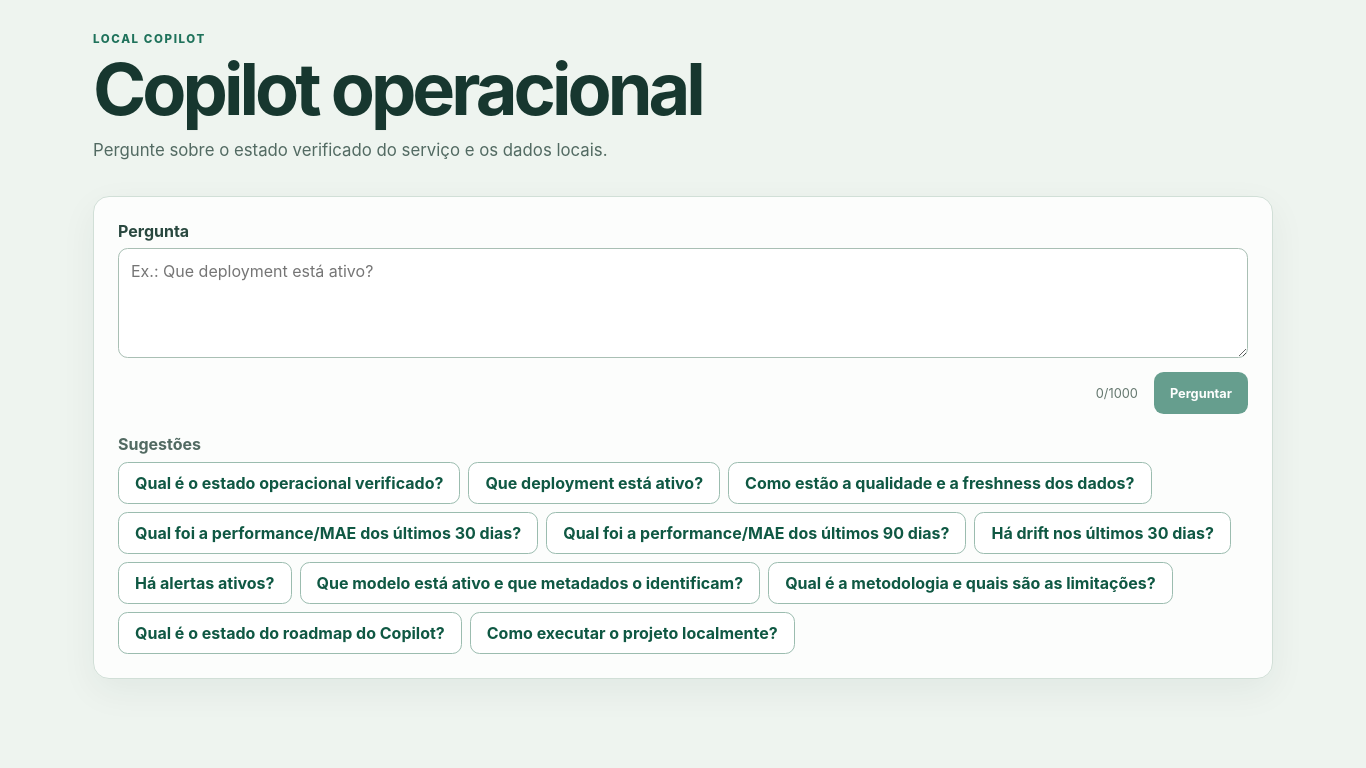
CopilotPage › keeps conversation state in memory and does not use localStorage
Type "Qual é o estado operacional e a metodologia?" into the text box labelled "Pergunta" at {"x": 683, "y": 303}, box x1=118 y1=248 x2=1248 y2=358
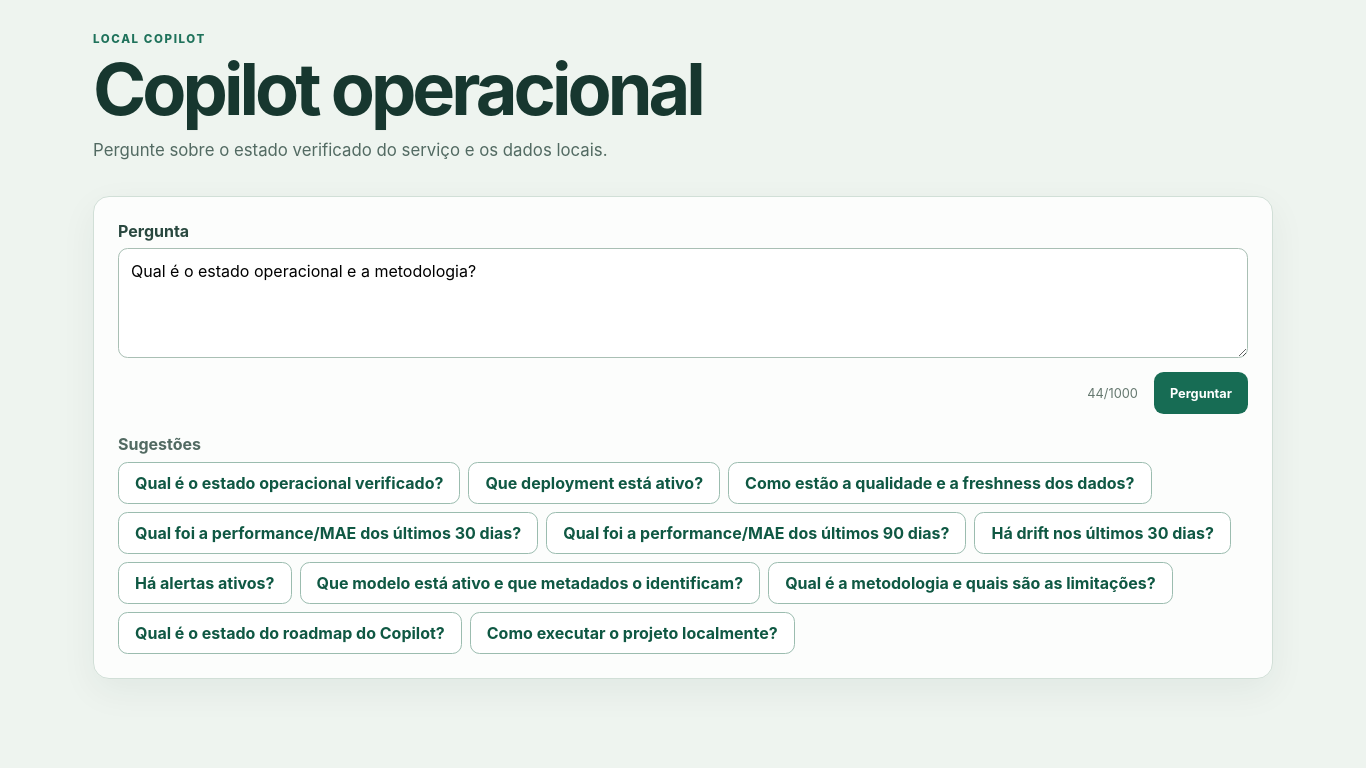
Click the button "Perguntar" at {"x": 1201, "y": 393}, box x1=1154 y1=372 x2=1248 y2=414
(page scrolled)
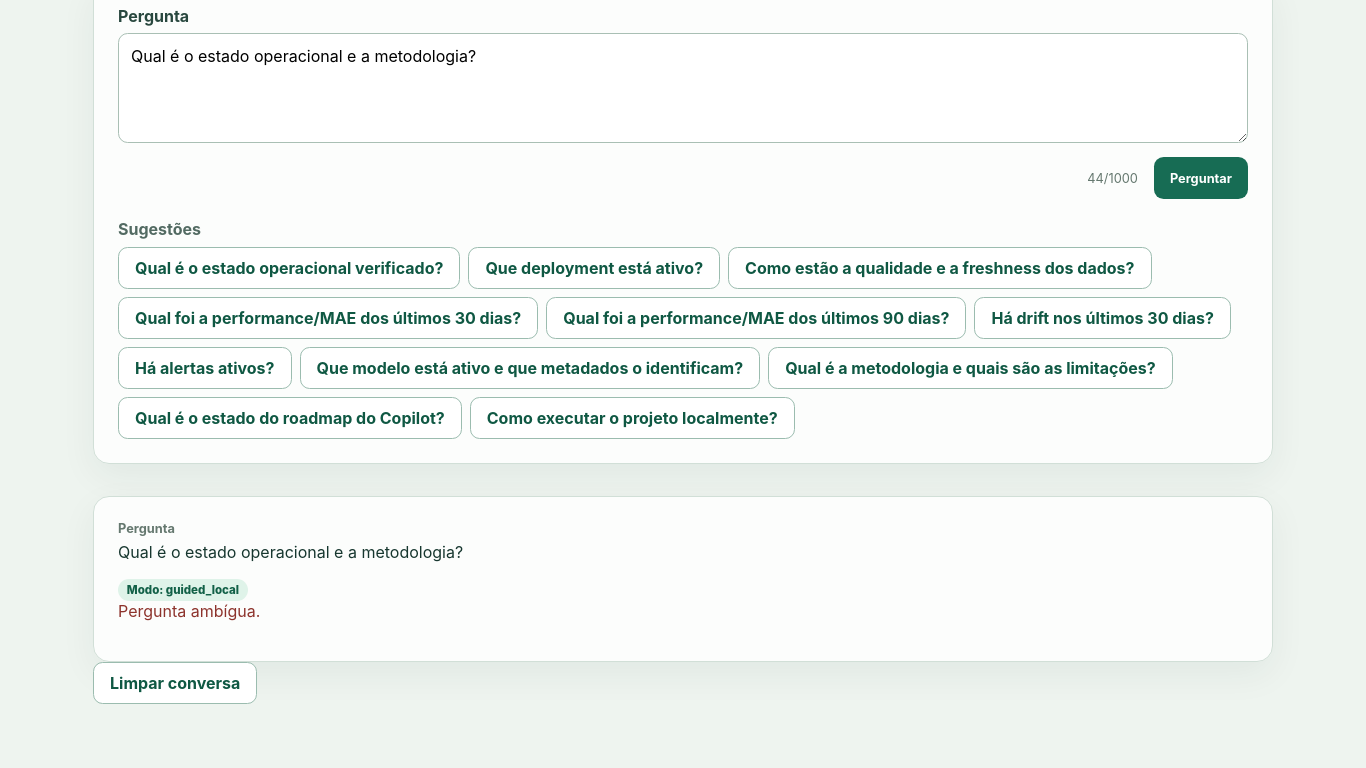
Expected: the text "Pergunta ambígua." is shown, x1=118 y1=601 x2=260 y2=621
